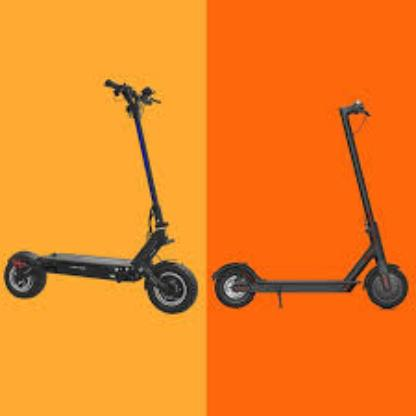bike: (2, 80, 199, 314), (210, 100, 410, 310), (5, 225, 198, 315)
